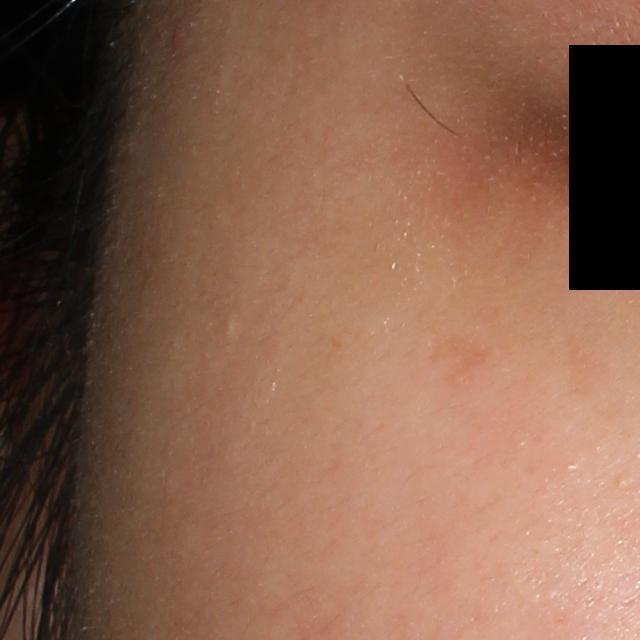comedo: (219, 311, 243, 342)
melasma: (425, 328, 495, 397)
